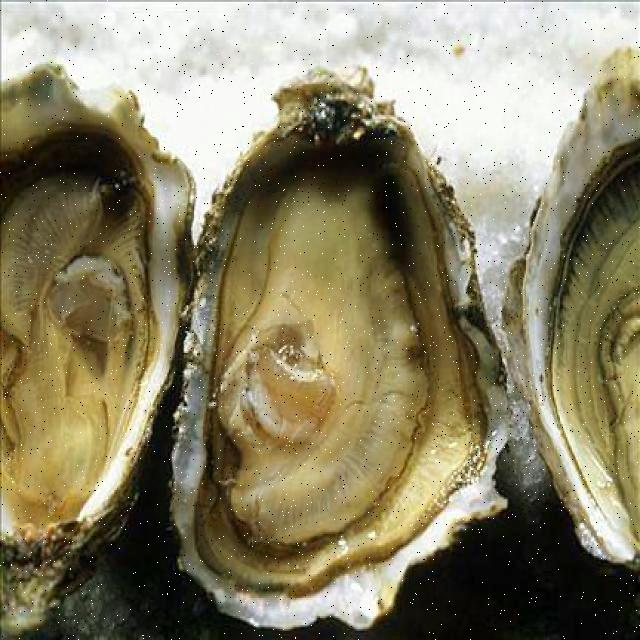Oyster-Open: (166, 65, 518, 631), (0, 56, 200, 640), (500, 47, 640, 570)
